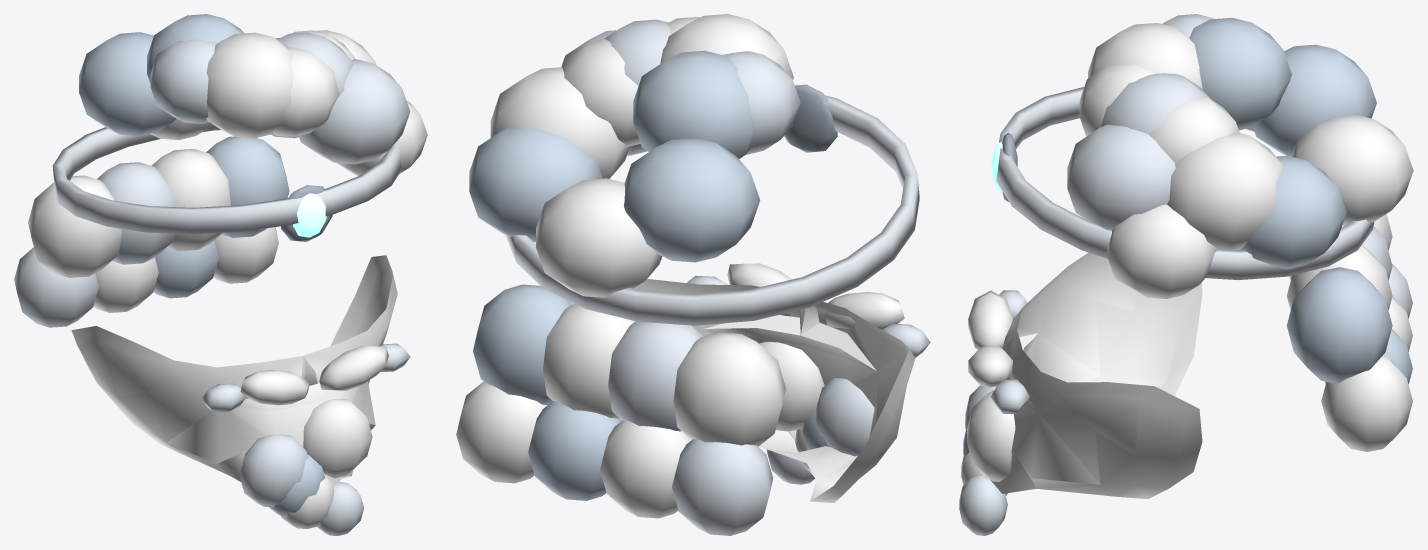
File: cloud_giant_head.glb
3 views of the same model, side by side, from view 1: azimuth 30°, elevation 25°; view 2: azimuth 150°, elevation 25°; view 3: azimuth 270°, elevation 25° (orthographic). The views are drawn at different scales.
Parts seen in each view (by area): view 1: cloud_giant_head; view 2: cloud_giant_head; view 3: cloud_giant_head.
Part boxes in pixels (bbox=[...]): cloud_giant_head: bbox=[14, 14, 427, 535]; cloud_giant_head: bbox=[456, 14, 930, 535]; cloud_giant_head: bbox=[959, 14, 1413, 535].
Size of the model in its own units: 1.1 by 1.4 by 1.16.
